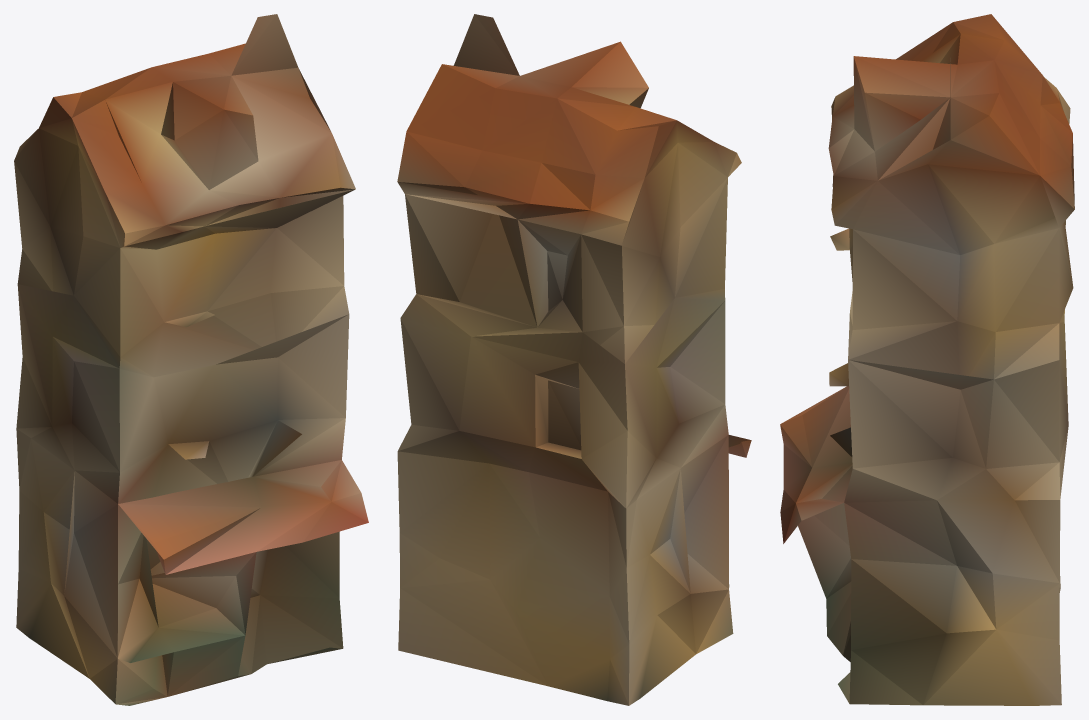
File: harbour-townhouse.glb
3 renders of one model, left to right at view 1: azimuth 30°, elevation 25°; view 2: azimuth 150°, elevation 25°; view 3: azimuth 270°, elevation 25°, orthographic. The views are drawn at different scales.
Visible parts, largest first — view 1: harbour-townhouse-far; view 2: harbour-townhouse-far; view 3: harbour-townhouse-far.
Boxes of the visible parts, <box> form: harbour-townhouse-far: <box>14,14,368,705</box>; harbour-townhouse-far: <box>397,14,751,705</box>; harbour-townhouse-far: <box>780,14,1074,705</box>.
Size of the model in its own units: 4.93 by 11.61 by 4.93.
